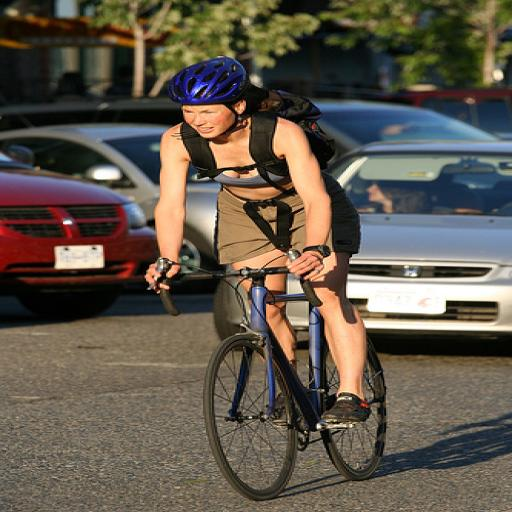bicycle: (147, 256, 389, 499)
person: (146, 56, 369, 425)
vehicle: (210, 138, 510, 346), (3, 119, 293, 284), (0, 144, 155, 310)
